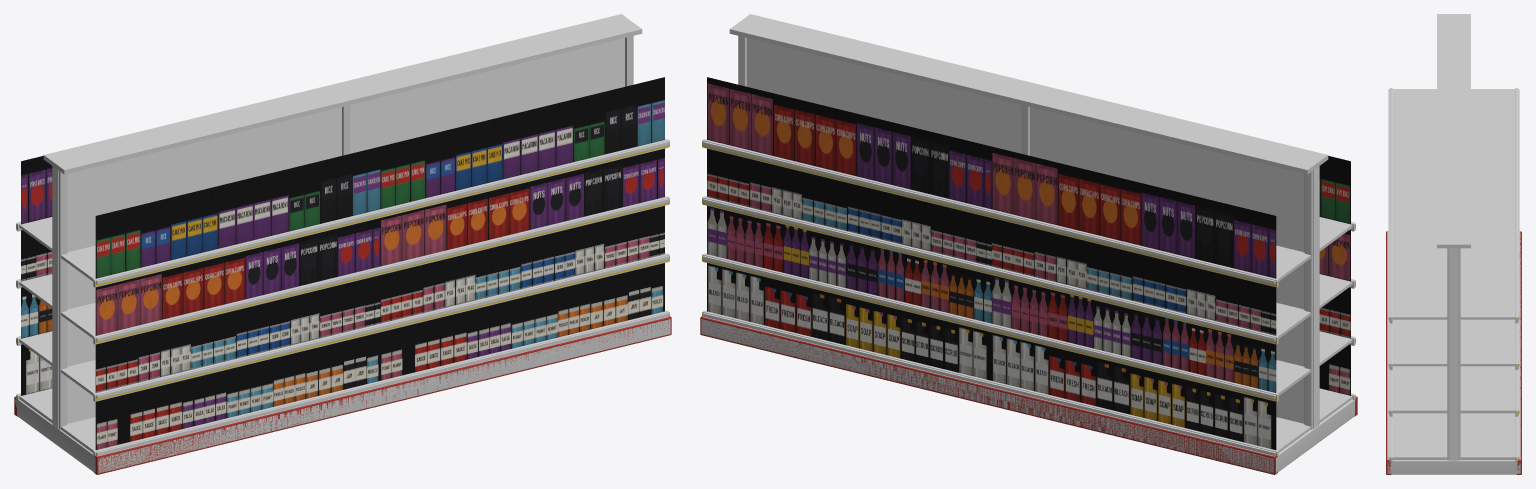
Rendered from SM_Shelf_Grocery_B.fbx.
The picture shows the model from 3 angles, left to right: view 1: azimuth 30°, elevation 25°; view 2: azimuth 150°, elevation 25°; view 3: azimuth 270°, elevation 25°; orthographic projection. The views are drawn at different scales.
Visible parts, largest first — view 1: SM_Shelf_Grocery_B_1; view 2: SM_Shelf_Grocery_B_1; view 3: SM_Shelf_Grocery_B_1.
Part boxes in pixels (left/top/right/bottom): SM_Shelf_Grocery_B_1: left=14, top=14, right=671, bottom=474; SM_Shelf_Grocery_B_1: left=700, top=14, right=1357, bottom=474; SM_Shelf_Grocery_B_1: left=1386, top=14, right=1521, bottom=474.
Size of the model in its own units: 402 by 188 by 100.
